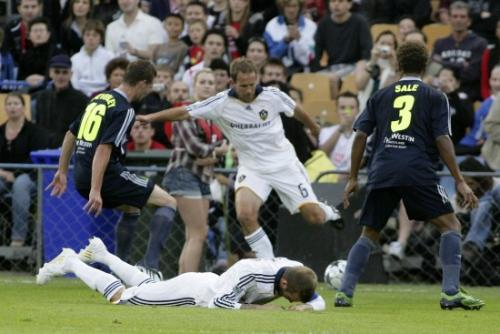10+: (1, 1, 500, 319)
down: (25, 230, 327, 316)
